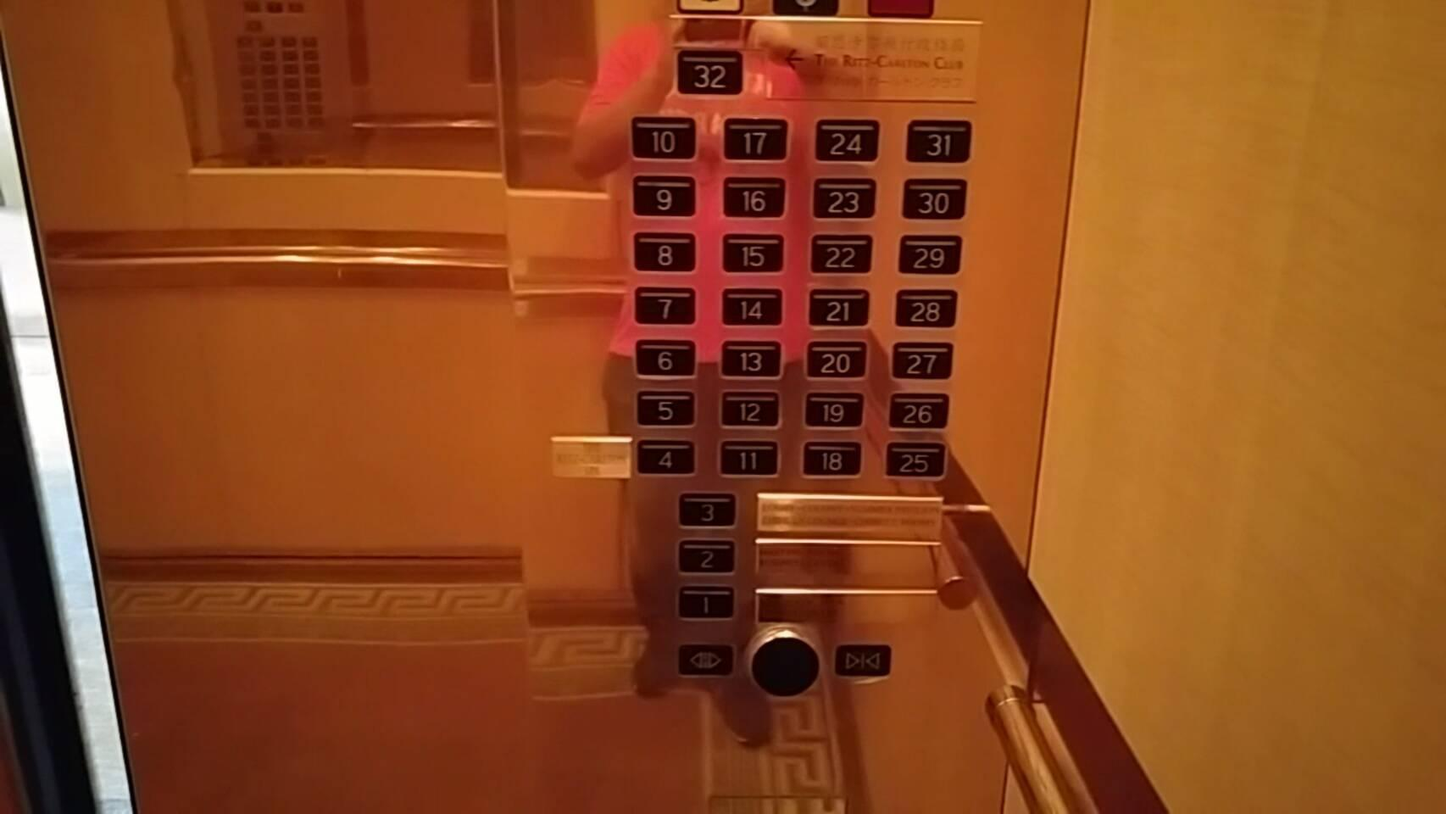1: (676, 583, 736, 620)
10: (629, 114, 698, 161)
11: (718, 437, 780, 477)
12: (719, 387, 780, 428)
13: (720, 337, 781, 378)
14: (720, 285, 784, 326)
15: (720, 230, 785, 274)
16: (721, 174, 787, 218)
17: (721, 115, 788, 163)
18: (800, 438, 863, 477)
19: (803, 388, 865, 429)
2: (676, 536, 737, 574)
20: (804, 337, 868, 380)
21: (807, 286, 870, 327)
22: (809, 231, 873, 274)
23: (811, 175, 876, 220)
24: (812, 115, 882, 164)
25: (884, 438, 947, 480)
26: (887, 389, 950, 430)
27: (890, 338, 954, 381)
28: (892, 285, 959, 328)
29: (897, 231, 963, 276)
3: (676, 489, 737, 528)
30: (900, 176, 967, 220)
31: (904, 116, 971, 164)
32: (675, 47, 743, 96)
4: (635, 437, 697, 476)
5: (635, 387, 696, 427)
6: (633, 336, 698, 379)
7: (631, 283, 698, 327)
8: (630, 228, 698, 274)
9: (630, 172, 698, 219)
close: (833, 642, 892, 677)
open: (675, 640, 735, 676)
unknown: (748, 627, 823, 702)
